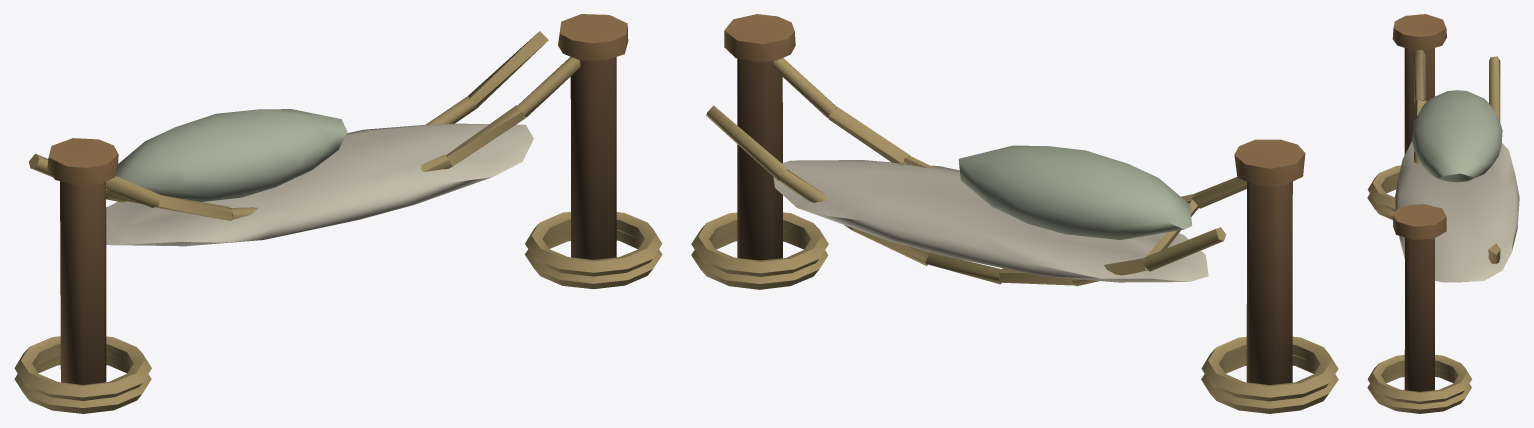
File: hammock_rig_a_lod1.glb
3 views of the same model, side by side, from view 1: azimuth 30°, elevation 25°; view 2: azimuth 150°, elevation 25°; view 3: azimuth 270°, elevation 25° (orthographic). The views are drawn at different scales.
Visible parts, largest first — view 1: Surface.001; view 2: Surface.001; view 3: Surface.001.
Boxes of the visible parts, x1=… form: Surface.001: x1=14, y1=14, x2=662, y2=413; Surface.001: x1=691, y1=14, x2=1338, y2=413; Surface.001: x1=1367, y1=14, x2=1519, y2=413.
Bounding box in the file's own units: 3.7 × 1.35 × 1.02.
